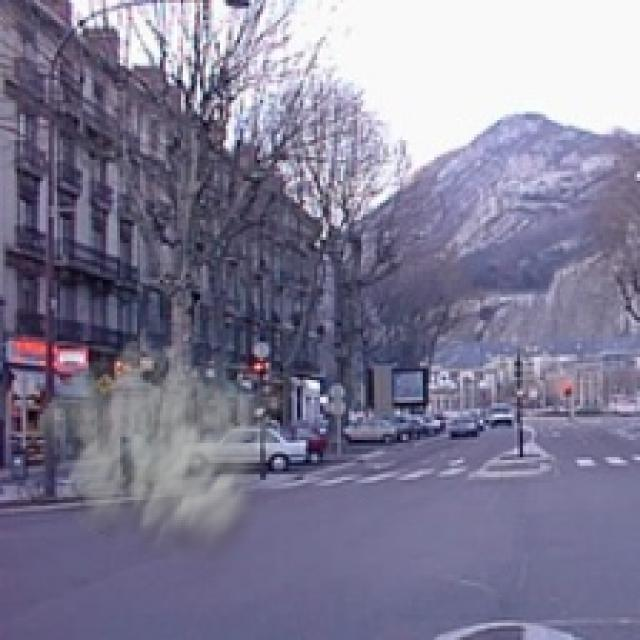smoke: (23, 326, 291, 583)
